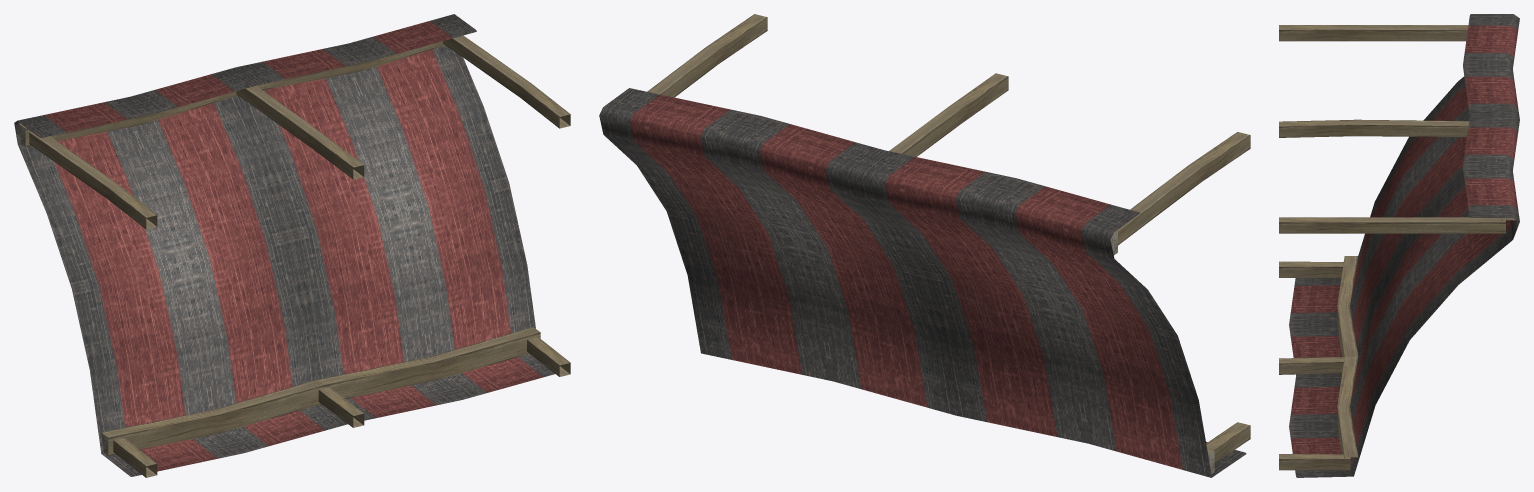
Rendered from Tent_Beach_Long_B.fbx.
The picture shows the model from 3 angles, left to right: view 1: azimuth 30°, elevation 25°; view 2: azimuth 150°, elevation 25°; view 3: azimuth 270°, elevation 25°; orthographic projection. The views are drawn at different scales.
Parts seen in each view (by area): view 1: Tent_Beach_Long_B; view 2: Tent_Beach_Long_B; view 3: Tent_Beach_Long_B.
Part boxes in pixels (x1,y1,x2,y2): Tent_Beach_Long_B: [14, 14, 570, 477]; Tent_Beach_Long_B: [599, 14, 1250, 477]; Tent_Beach_Long_B: [1279, 14, 1519, 477].
Size of the model in its own units: 7.6 by 4.54 by 3.81.
